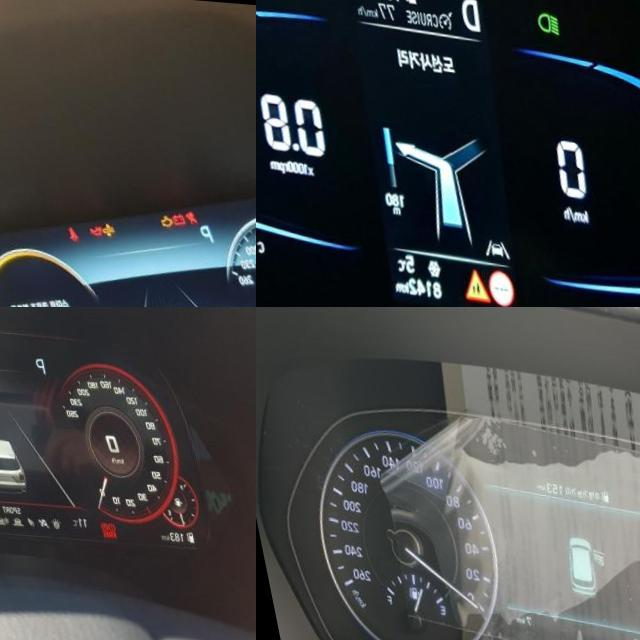LaneCenteringOff: (469, 231, 498, 254)
Low beam: (532, 3, 558, 28)
